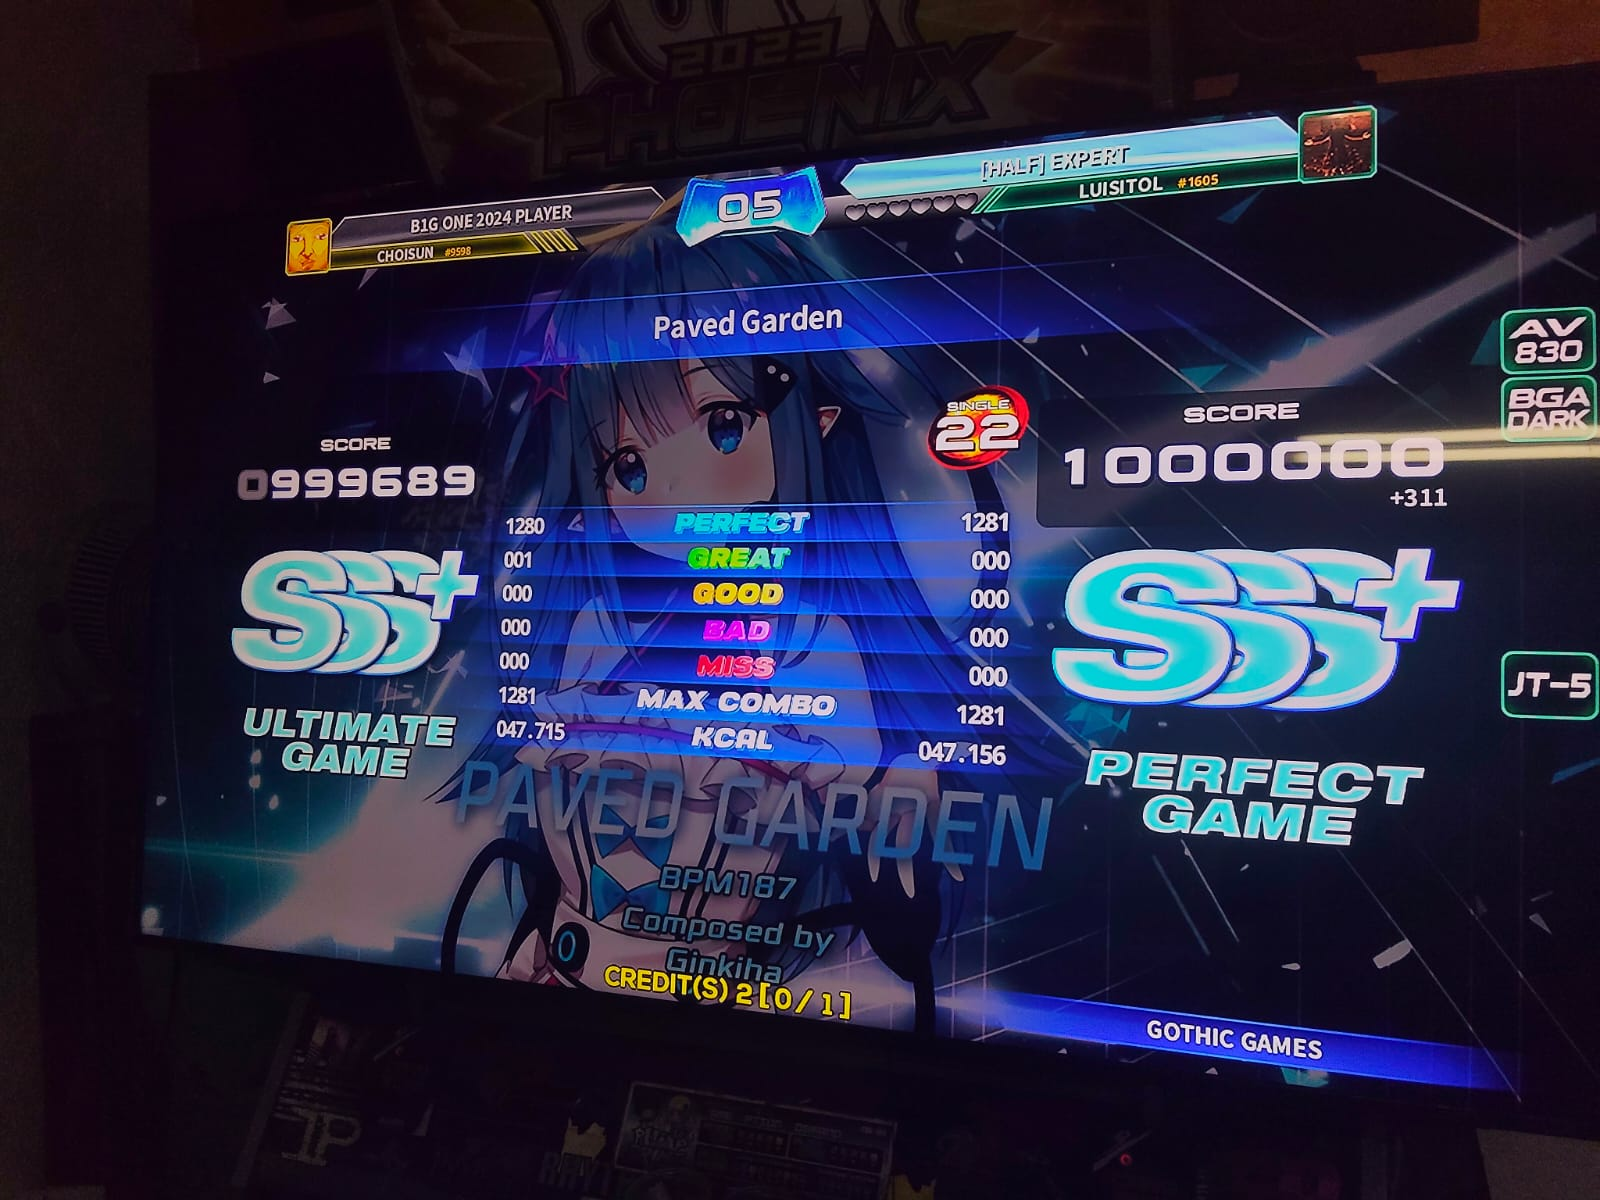difficulty: (910, 389, 1023, 463)
fullscore: (449, 180, 1600, 1097)
rank: (1057, 517, 1453, 735)
score: (1043, 389, 1463, 507)
song_name: (544, 275, 923, 345)
